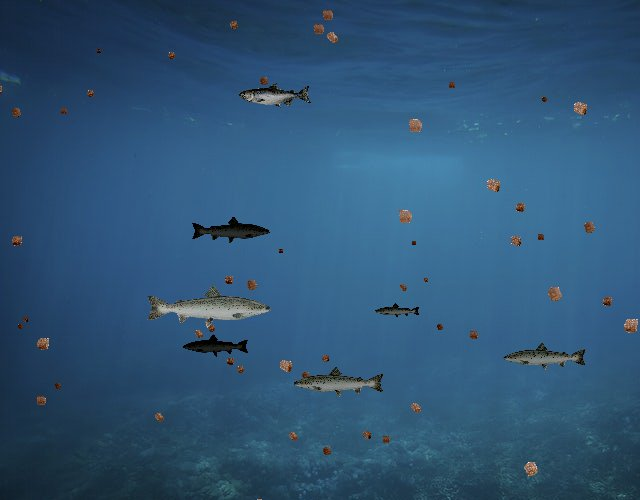Fish: (144, 283, 273, 329), (293, 366, 387, 399), (502, 341, 588, 372), (190, 216, 271, 245), (240, 83, 313, 109), (182, 333, 250, 358), (374, 303, 421, 320)
Pellet: (272, 352, 299, 379), (616, 310, 640, 340), (320, 25, 344, 49), (6, 102, 27, 123), (224, 16, 243, 35), (82, 86, 98, 102), (538, 93, 551, 106), (19, 314, 31, 326)
